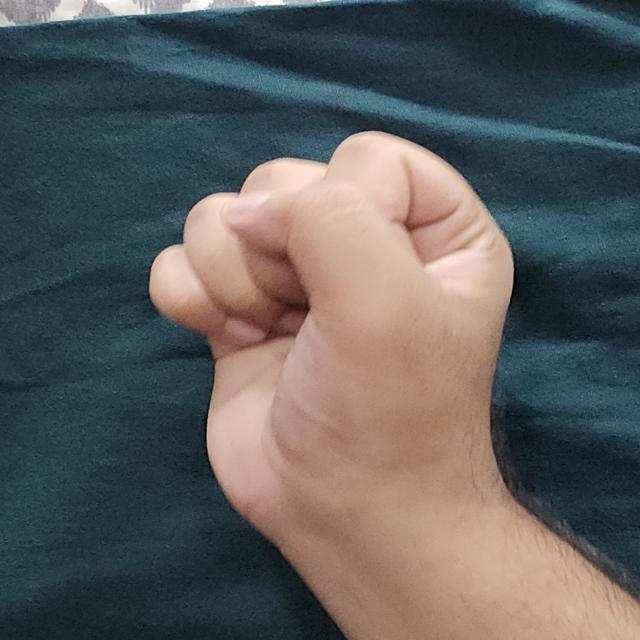ث: (134, 114, 546, 640)
